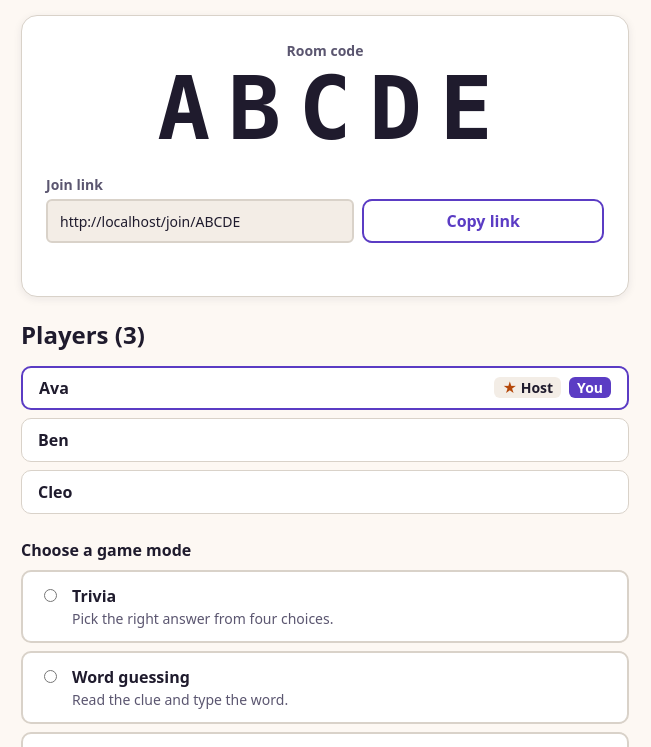
Test: start game › is disabled until the host picks a mode, with the reason as text
The width and height of the screenshot is (651, 747).
Click the radio button labelled "Trivia": (50, 595) x1=44 y1=589 x2=57 y2=602
(page scrolled)
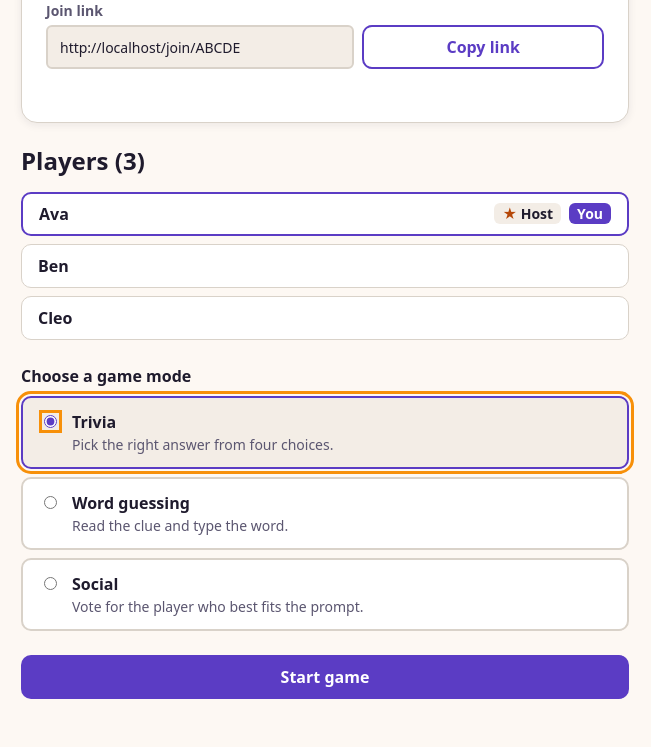
Expected: the button "Start game" is enabled, x1=21 y1=655 x2=629 y2=699
